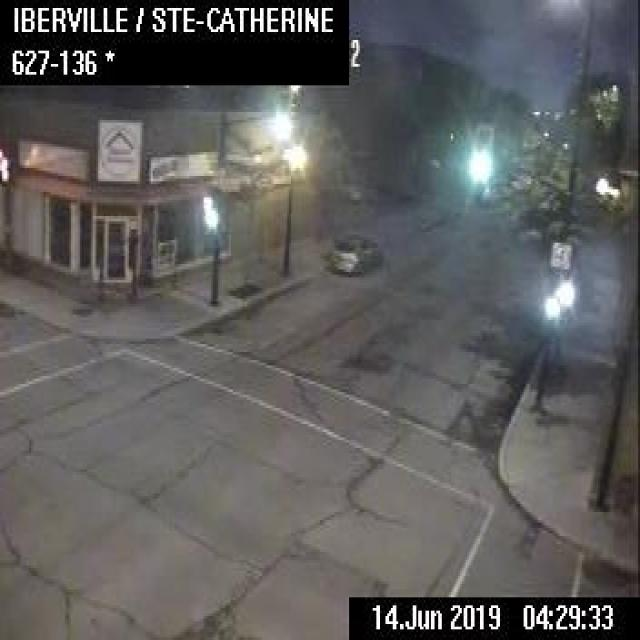vehicle: (325, 230, 382, 275)
